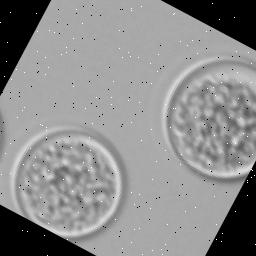picoshell: (9, 125, 125, 239), (163, 57, 256, 180)
